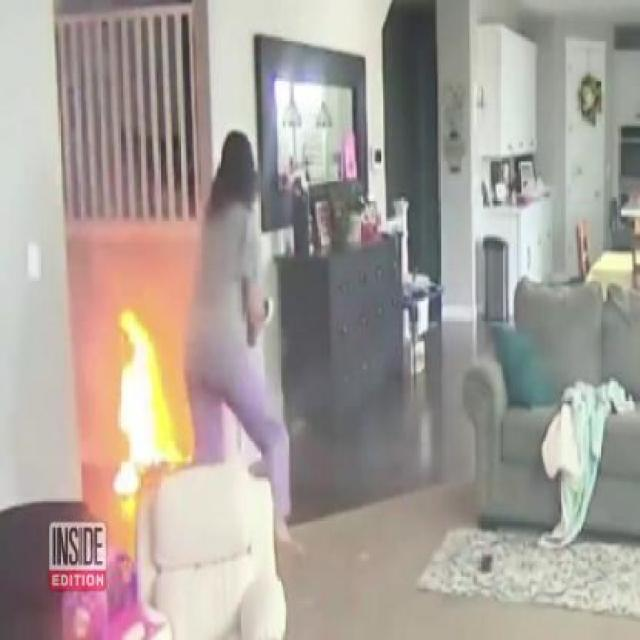fire: (110, 311, 172, 492)
smoke: (56, 324, 106, 456), (96, 217, 190, 285)
